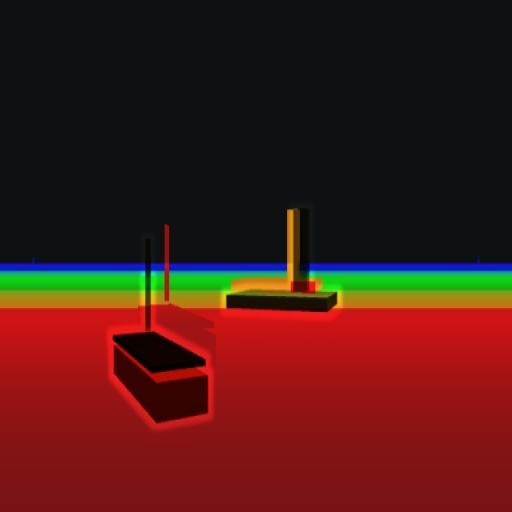platform: (224, 206, 340, 310)
vessel: (110, 243, 209, 425)
